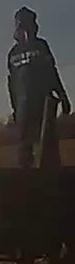gloves: (55, 88, 72, 117)
vest: (6, 42, 57, 120)
